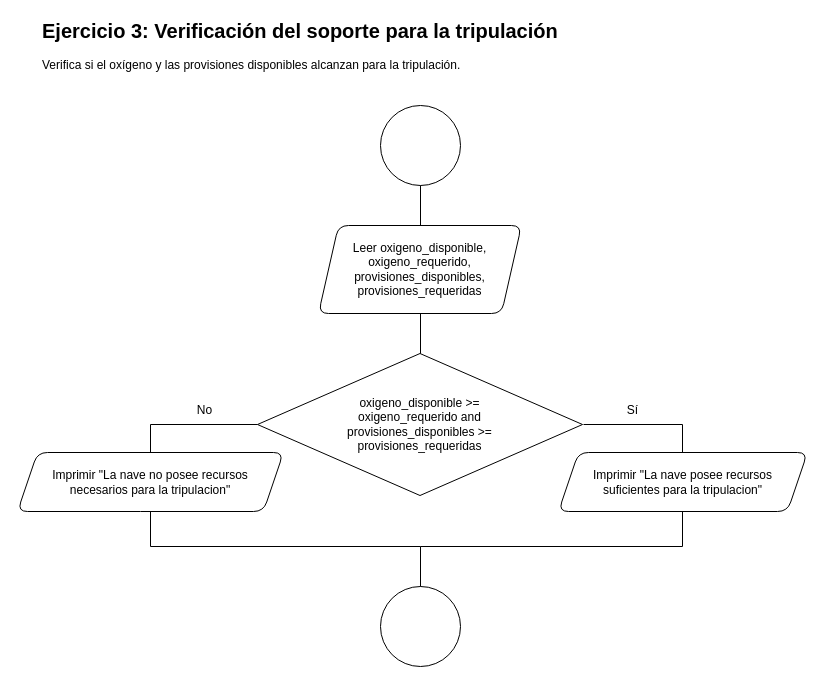
The diagram is 825 pixels wide and 684 high, and some of its shapes have lost their labels. The shapes that lost their labels are listed below. From the top down, each one's box as (x1, y1, x2, y2) in pixels, then its label:
(380, 104, 460, 186): Inicio
(380, 586, 460, 666): Fin
